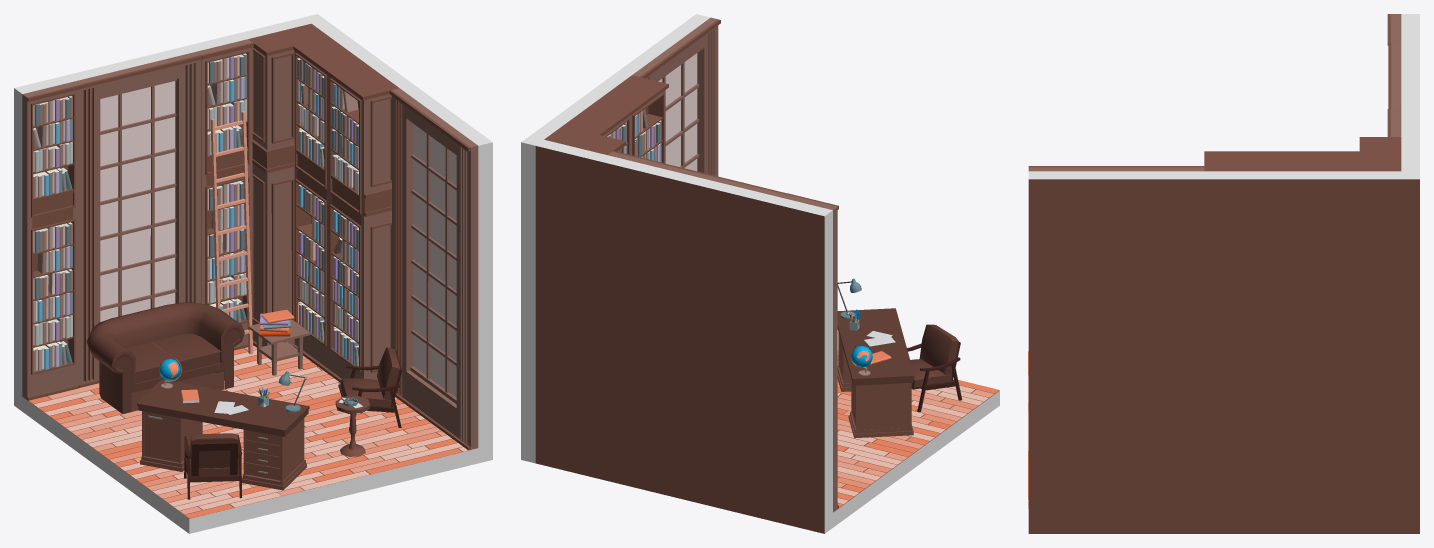
Rendered from room_19.glb.
The picture shows the model from 3 angles, left to right: view 1: azimuth 30°, elevation 25°; view 2: azimuth 150°, elevation 25°; view 3: azimuth 270°, elevation 25°; orthographic projection. The views are drawn at different scales.
Visible parts, largest first — view 1: closet_035.001, floor_003.003, closet_032.002, window_034.002, closet_036.002, closet_036.001, closet_032.001, Walls_009.002, sofa_023.001, window_034.001, office_table_040.001, Walls_009.004 (+7 smaller); view 2: Walls_009.003, office_table_040.001, Walls_009.004, floor_003.003, closet_035.001, closet_036.002, Walls_009.002, window_034.001, lounge_chair_019.001, closet_032.002, closet_036.001; view 3: Walls_009.004, closet_035.001, Walls_009.003, closet_036.002, closet_036.001.
Part boxes in pixels (bbox=[...]): closet_035.001: bbox=[248, 23, 399, 382]; floor_003.003: bbox=[29, 345, 476, 518]; closet_032.002: bbox=[22, 81, 79, 400]; window_034.002: bbox=[100, 79, 176, 321]; closet_036.002: bbox=[389, 88, 478, 450]; closet_036.001: bbox=[74, 51, 202, 387]; closet_032.001: bbox=[197, 39, 253, 350]; Walls_009.002: bbox=[22, 348, 478, 533]; sofa_023.001: bbox=[86, 302, 244, 413]; window_034.001: bbox=[410, 124, 456, 403]; office_table_040.001: bbox=[137, 379, 309, 490]; Walls_009.004: bbox=[303, 14, 492, 463]; Walls_009.003: bbox=[535, 140, 832, 533]; office_table_040.001: bbox=[837, 308, 914, 438]; Walls_009.004: bbox=[521, 14, 710, 463]; floor_003.003: bbox=[837, 350, 999, 507]; closet_035.001: bbox=[544, 75, 668, 162]; closet_036.002: bbox=[632, 17, 720, 176]; Walls_009.002: bbox=[833, 379, 999, 527]; window_034.001: bbox=[658, 53, 699, 171]; lounge_chair_019.001: bbox=[907, 324, 962, 412]; closet_032.002: bbox=[782, 193, 838, 512]; closet_036.001: bbox=[659, 163, 787, 197]; Walls_009.004: bbox=[1028, 171, 1419, 533]; closet_035.001: bbox=[1204, 137, 1401, 171]; Walls_009.003: bbox=[1401, 14, 1419, 171]; closet_036.002: bbox=[1028, 166, 1204, 171]; closet_036.001: bbox=[1388, 42, 1401, 108].
Size of the model in its own units: 4.2 by 4.2 by 4.2.
1 material, 1 textured.
